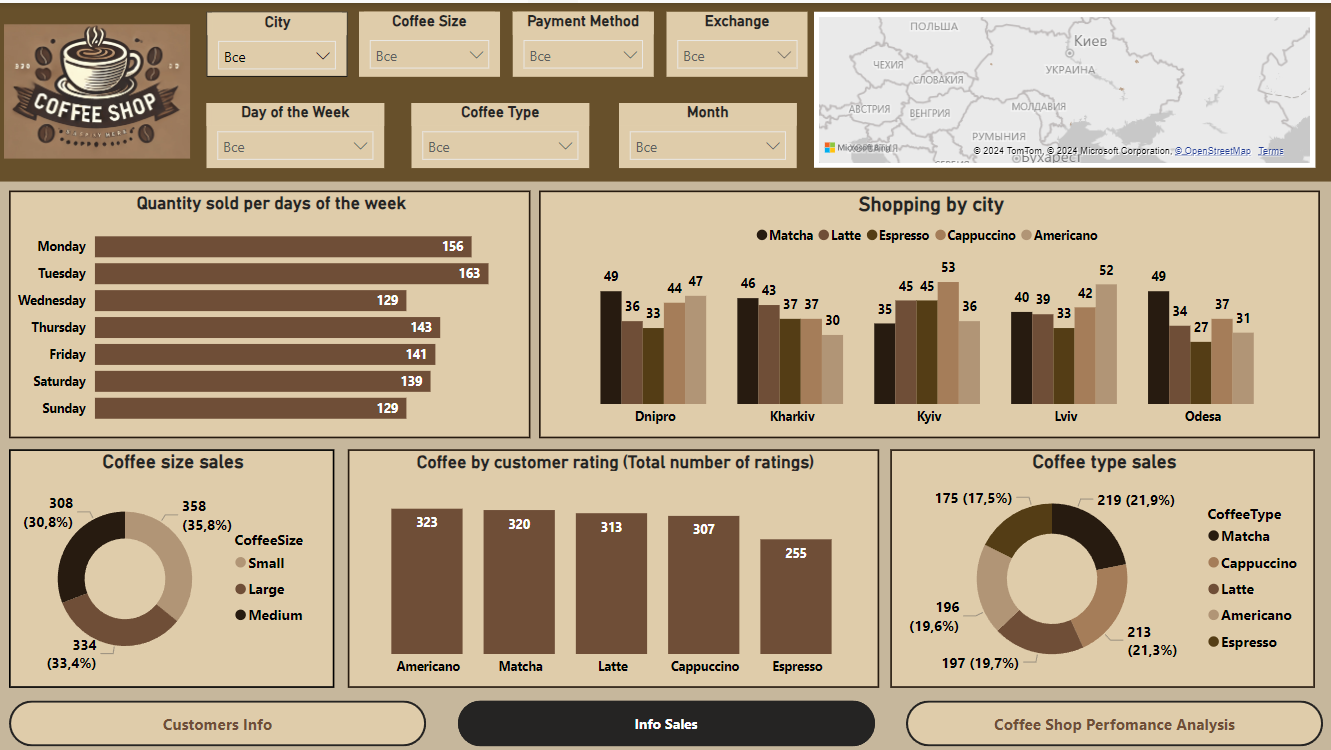

The page's visual inventory and layout, read from the dashboard file:
{"tool":"powerbi","page":{"name":"Info Sales","canvas":[1280,720],"ordinal":1},"visuals":[{"type":"shape","box":[0,0,1280,171.4],"z":0},{"type":"slicer","title":"City","fields":{"Values":["DimCity.City"]},"box":[199,8.4,135,62.3],"z":1000},{"type":"image","box":[0,10.8,188.2,147.4],"z":2000},{"type":"slicer","title":"Day of the Week","fields":{"Values":["coffee_purchase_data.Day of the Week"]},"box":[199,95.9,170.2,62.3],"z":3000},{"type":"slicer","title":"Coffee Size","fields":{"Values":["coffee_purchase_data.CoffeeSize"]},"box":[345,8,135,62.3],"z":4000},{"type":"slicer","title":"Coffee Type","fields":{"Values":["coffee_purchase_data.CoffeeType"]},"box":[395.5,95.9,170.2,62.3],"z":5000},{"type":"slicer","title":"Month","fields":{"Values":["coffee_purchase_data.MonthName"]},"box":[594.5,95.9,170.2,62.3],"z":6000},{"type":"slicer","title":"Payment Method","fields":{"Values":["coffee_purchase_data.PaymentType"]},"box":[493,8,135,62.3],"z":7000},{"type":"clusteredColumnChart","title":"Shopping by city","fields":{"Category":["coffee_purchase_data.CustomerCity"],"Y":["All the measures.Total Quantity"],"Series":["coffee_purchase_data.CoffeeType"]},"box":[517.8,179.8,749.1,237.3],"z":8000},{"type":"donutChart","title":"Coffee type sales","fields":{"Y":["All the measures.Total Quantity"],"Category":["coffee_purchase_data.CoffeeType"]},"box":[854.5,427.9,407.5,228.9],"z":9000},{"type":"donutChart","title":"Coffee size sales","fields":{"Category":["coffee_purchase_data.CoffeeSize"],"Y":["All the measures.Total Quantity"]},"box":[9.6,427.9,311.6,228.9],"z":10000},{"type":"barChart","title":"Quantity sold per days of the week","fields":{"Y":["CountNonNull(coffee_purchase_data.Sales)"],"Category":["coffee_purchase_data.Day of the Week"]},"box":[9.6,179.8,499.8,237.3],"z":11000},{"type":"clusteredColumnChart","title":"Coffee by customer rating (Total number of ratings)","fields":{"Category":["coffee_purchase_data.CoffeeType"],"Y":["Sum(coffee_purchase_data.Rating)"]},"box":[334.4,427.9,509.4,228.9],"z":12000},{"type":"filledMap","fields":{"Category":["DimCity.City"],"Y":["Min(DimCity.Latitude)"],"X":["Min(DimCity.Longitude)"]},"box":[781.4,8.4,480.6,149.8],"z":13000},{"type":"slicer","title":"Exchange","fields":{"Values":["Currency.Currency"]},"box":[640,8,135.4,62.3],"z":14000},{"type":"pageNavigator","box":[9.6,668.8,1260.8,44.3],"z":15000}]}

Visuals, with their boxes in screenshot pixels (x1, y1, x2, y2), scaled from the page's 1280x720 canvas onto the 1331x750 screenshot:
shape: select_region(0, 0, 1330, 179)
"City" slicer: select_region(207, 9, 347, 74)
image: select_region(0, 11, 196, 165)
"Day of the Week" slicer: select_region(207, 100, 384, 165)
"Coffee Size" slicer: select_region(359, 8, 499, 73)
"Coffee Type" slicer: select_region(411, 100, 588, 165)
"Month" slicer: select_region(618, 100, 795, 165)
"Payment Method" slicer: select_region(513, 8, 653, 73)
"Shopping by city" clusteredColumnChart: select_region(538, 187, 1317, 434)
"Coffee type sales" donutChart: select_region(889, 446, 1312, 684)
"Coffee size sales" donutChart: select_region(10, 446, 334, 684)
"Quantity sold per days of the week" barChart: select_region(10, 187, 530, 434)
"Coffee by customer rating (Total number of ratings)" clusteredColumnChart: select_region(348, 446, 877, 684)
filledMap - DimCity.City x Min(DimCity.Latitude): select_region(813, 9, 1312, 165)
"Exchange" slicer: select_region(666, 8, 806, 73)
pageNavigator: select_region(10, 697, 1321, 743)
